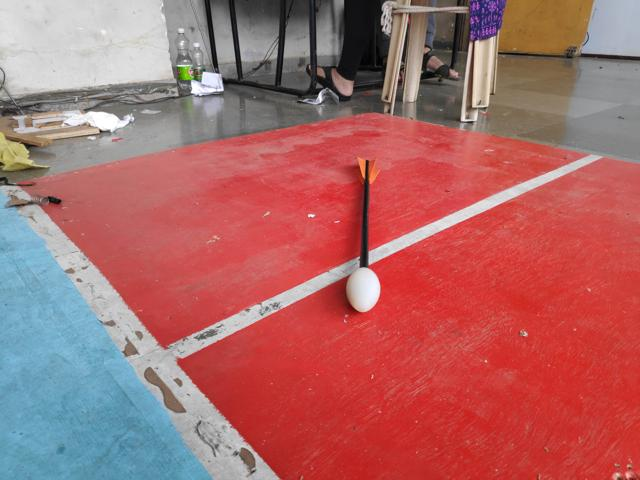Head: (341, 265, 384, 314)
Tail: (354, 155, 384, 187)
